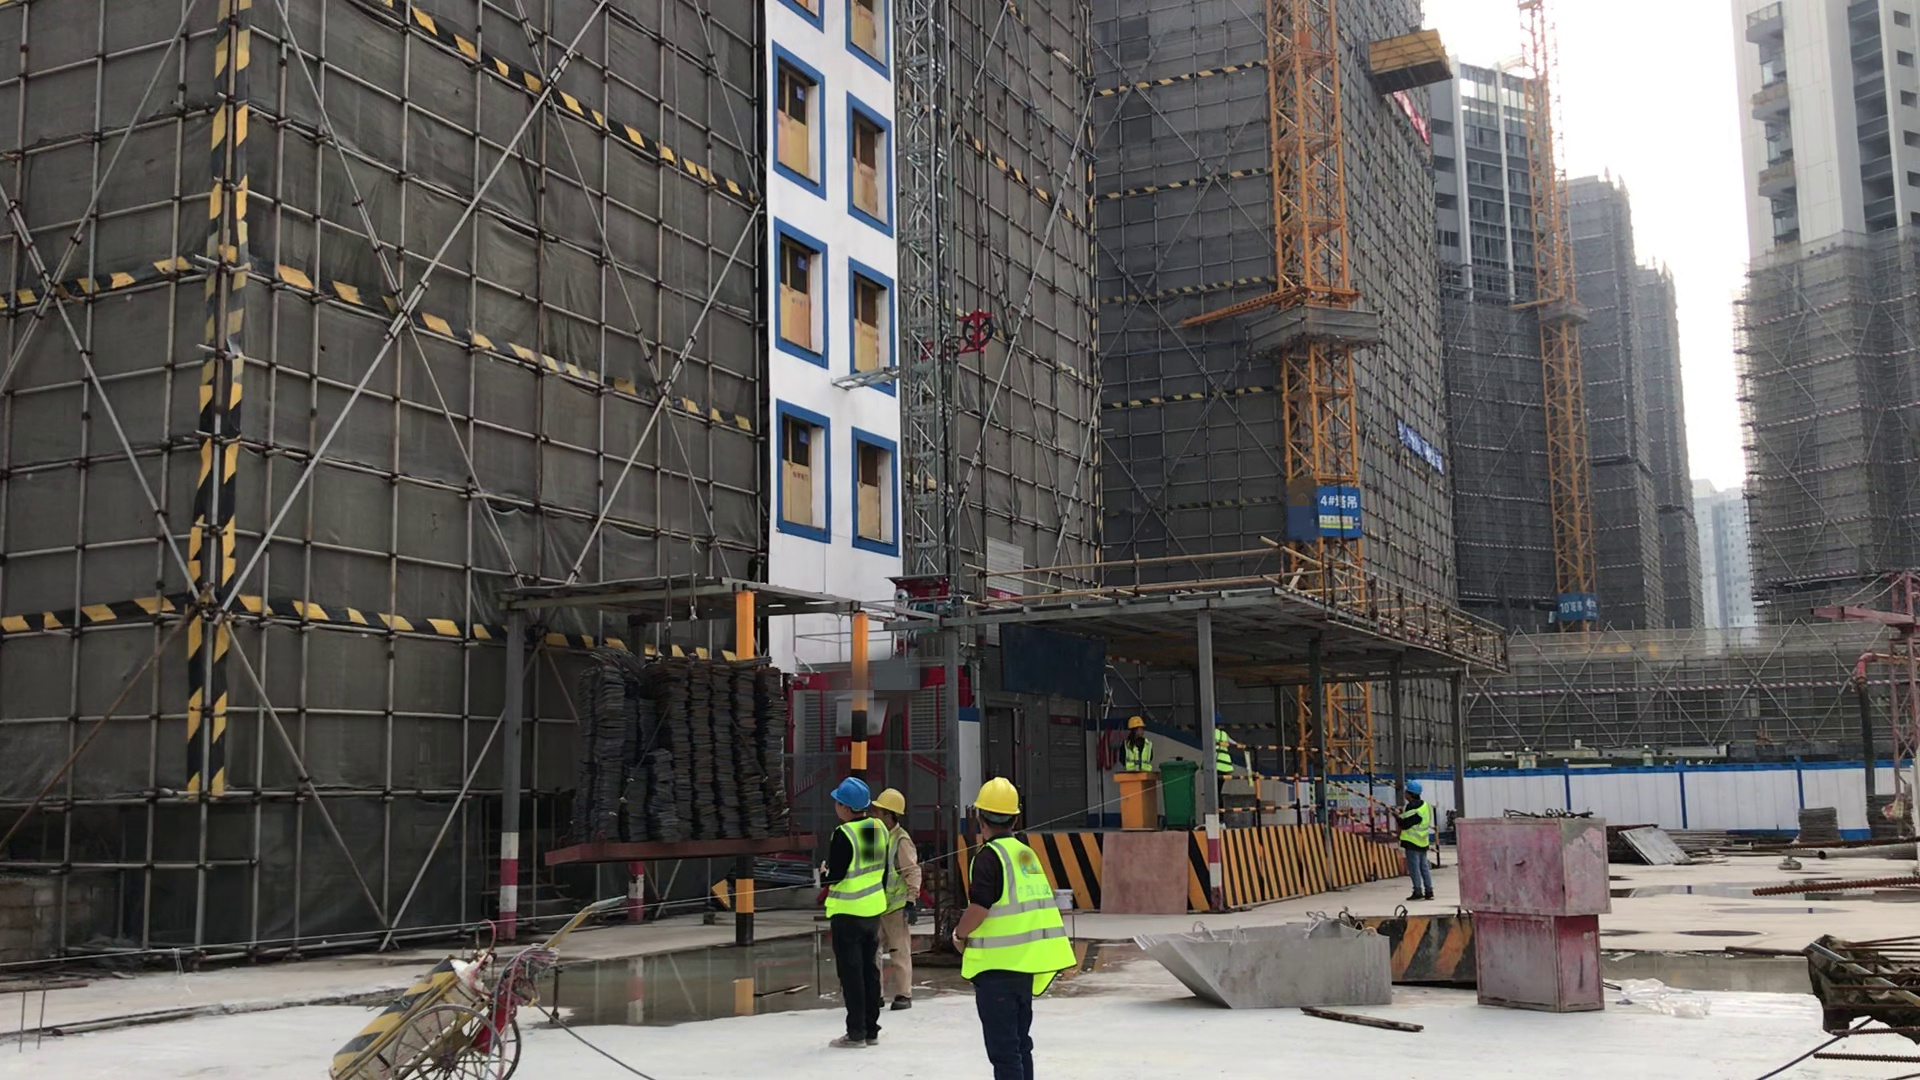handcart: (344, 905, 637, 1080)
helmet: (973, 774, 1025, 819), (827, 765, 870, 814), (877, 776, 908, 819), (1392, 770, 1431, 802), (1118, 707, 1148, 737)
hopper: (1138, 913, 1405, 1006)
person: (968, 782, 1065, 1080), (833, 785, 885, 1049), (887, 799, 928, 1013), (1405, 778, 1440, 908), (1116, 701, 1154, 778), (1208, 709, 1232, 813)
vest: (975, 841, 1064, 984), (833, 818, 880, 914), (887, 828, 917, 907), (1406, 805, 1434, 855), (1117, 739, 1157, 769), (1213, 727, 1230, 778)
